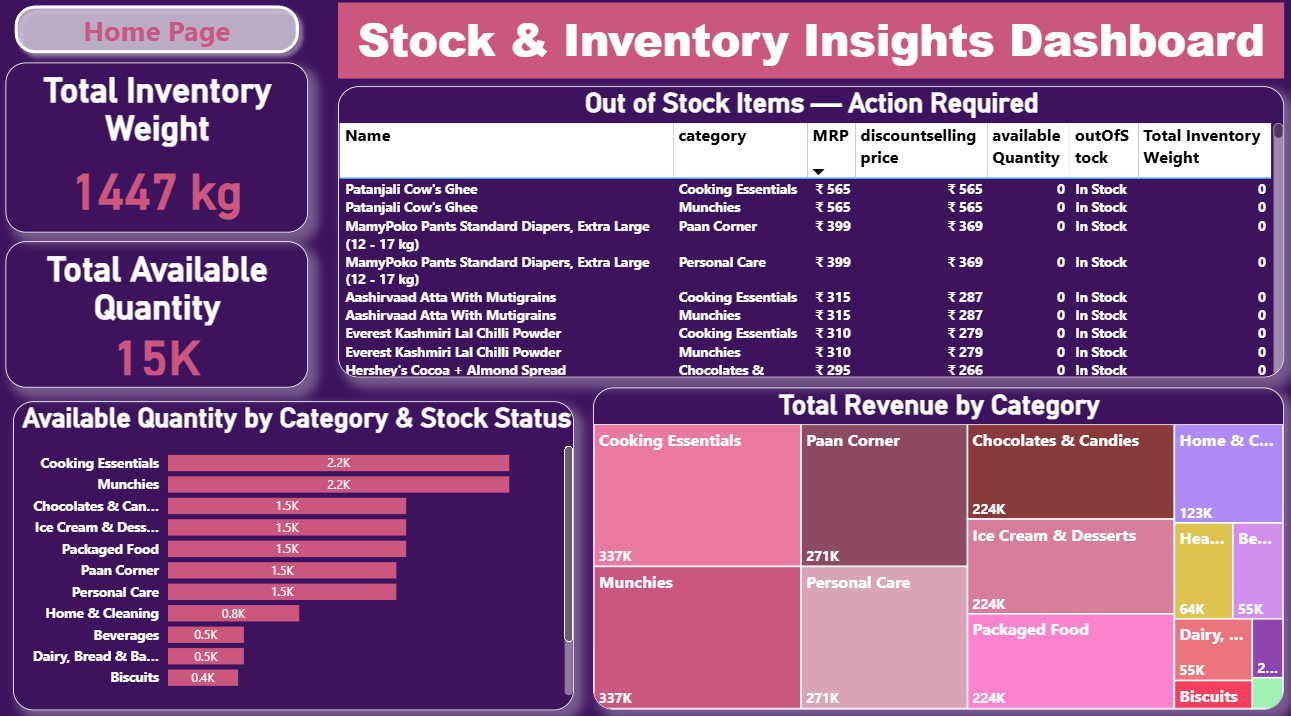

What the dashboard file says about the page in this screenshot:
{"tool":"powerbi","page":{"name":"Stock & Inventory Insights","canvas":[1280,720],"ordinal":2},"visuals":[{"type":"shape","title":"Avg Discount % by MRP Bucket","box":[3.7,6.1,1270.5,708],"z":0},{"type":"textbox","box":[337.5,12.2,925.7,74.6],"z":1000},{"type":"card","title":"Total Inventory Weight","fields":{"Values":["zepto.Total_Inventory_Weight_KG"]},"box":[12.2,70.9,295.9,166.3],"z":2000},{"type":"card","title":"Total Available Quantity","fields":{"Values":["zepto.Total Available Quantity"]},"box":[12.2,245.8,295.9,143.1],"z":3000},{"type":"treemap","title":"Total Revenue by Category","fields":{"Group":["zepto.category"],"Values":["zepto.Total Revenue"]},"box":[587,388.9,676.2,315.5],"z":4000},{"type":"barChart","title":"Available Quantity by Category & Stock Status","fields":{"Category":["zepto.category"],"Series":["zepto.outOfStock"],"Y":["Sum(zepto.availableQuantity)"]},"box":[19.6,402.3,549.1,302],"z":5000},{"type":"tableEx","title":"Out of Stock Items — Action Required","fields":{"Values":["zepto.Name","zepto.category","zepto.MRP","zepto.discountsellingprice","zepto.availableQuantity","zepto.outOfStock","zepto.Total Inventory Weight"]},"box":[337.5,94.2,925.7,284.9],"z":6000},{"type":"actionButton","box":[12.2,6.1,295.9,64.8],"z":7000}]}

Visuals, with their boxes in screenshot pixels (x1, y1, x2, y2), scaled from the page's 1280x720 canvas onto the 1291x716 screenshot:
"Avg Discount % by MRP Bucket" shape: 4/6/1285/710
textbox: 340/12/1274/86
"Total Inventory Weight" card: 12/71/311/236
"Total Available Quantity" card: 12/244/311/387
"Total Revenue by Category" treemap: 592/387/1274/700
"Available Quantity by Category & Stock Status" barChart: 20/400/574/700
"Out of Stock Items — Action Required" tableEx: 340/94/1274/377
actionButton: 12/6/311/71
